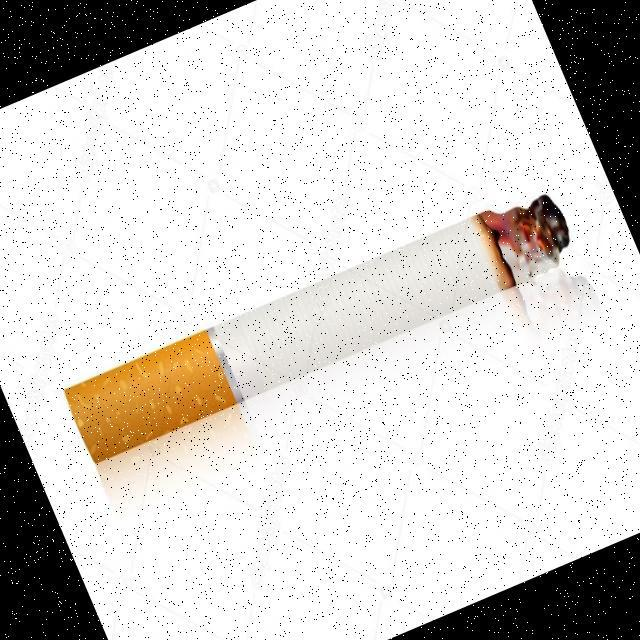cigarette: (59, 172, 586, 471)
